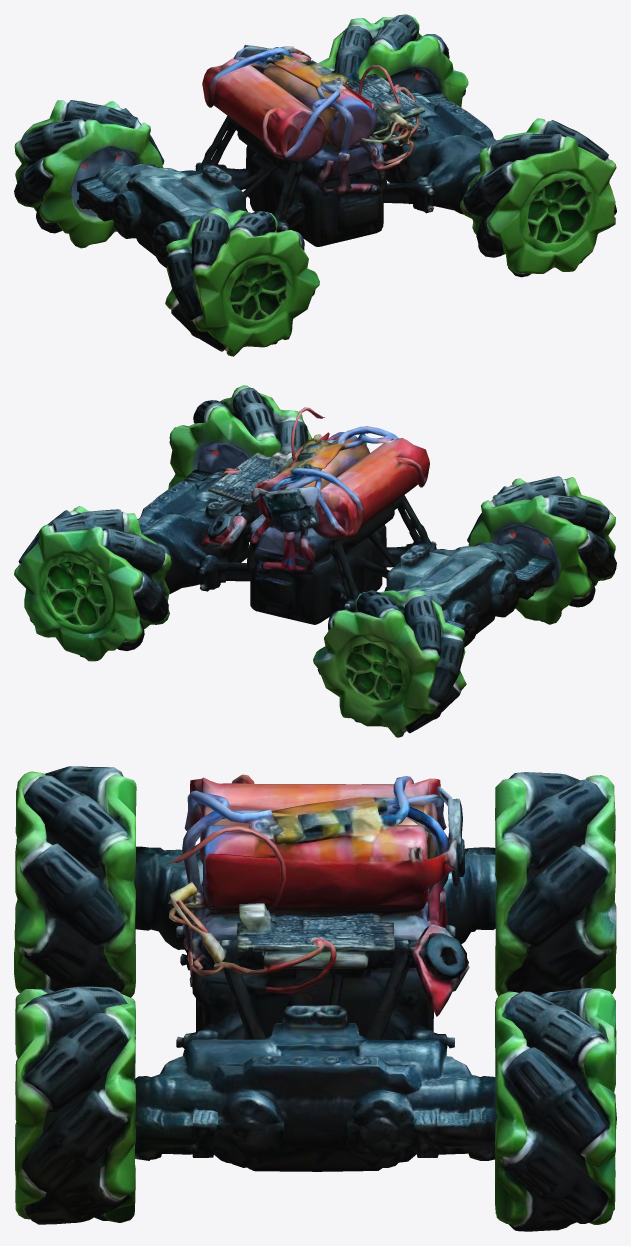
File: rover_model_optimized.glb
3 renders of one model, top to bottom at view 1: azimuth 30°, elevation 25°; view 2: azimuth 150°, elevation 25°; view 3: azimuth 270°, elevation 25°, orthographic. The views are drawn at different scales.
Parts seen in each view (by area): view 1: tripo_node_4dc5e0b1-5d1e-4e35-adc5-3f2d39eaed06; view 2: tripo_node_4dc5e0b1-5d1e-4e35-adc5-3f2d39eaed06; view 3: tripo_node_4dc5e0b1-5d1e-4e35-adc5-3f2d39eaed06.
Boxes of the visible parts, bbox=[...] form: tripo_node_4dc5e0b1-5d1e-4e35-adc5-3f2d39eaed06: bbox=[14, 14, 616, 356]; tripo_node_4dc5e0b1-5d1e-4e35-adc5-3f2d39eaed06: bbox=[14, 385, 616, 737]; tripo_node_4dc5e0b1-5d1e-4e35-adc5-3f2d39eaed06: bbox=[14, 766, 616, 1231].
Bounding box in the file's own units: 0.9775 × 0.424 × 0.7465.
Materials: 1 (1 with a texture image).
